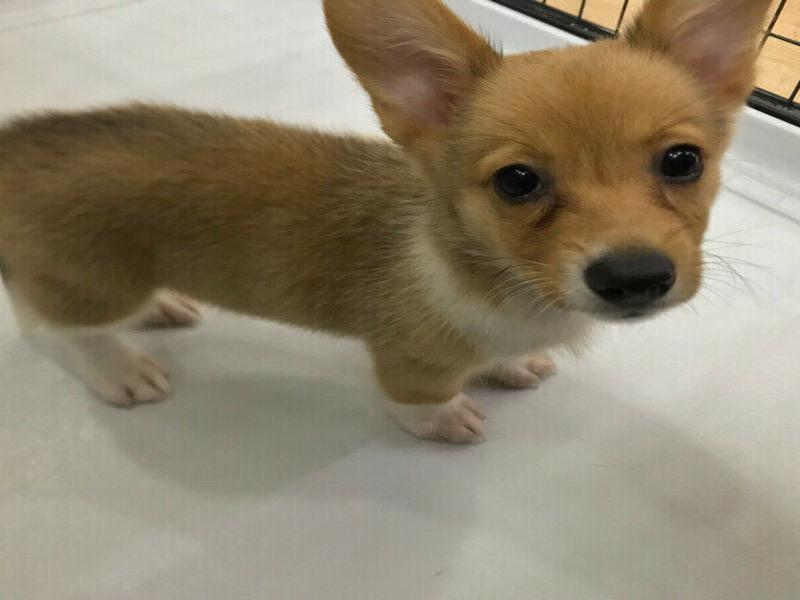corgi: (321, 4, 770, 320)
